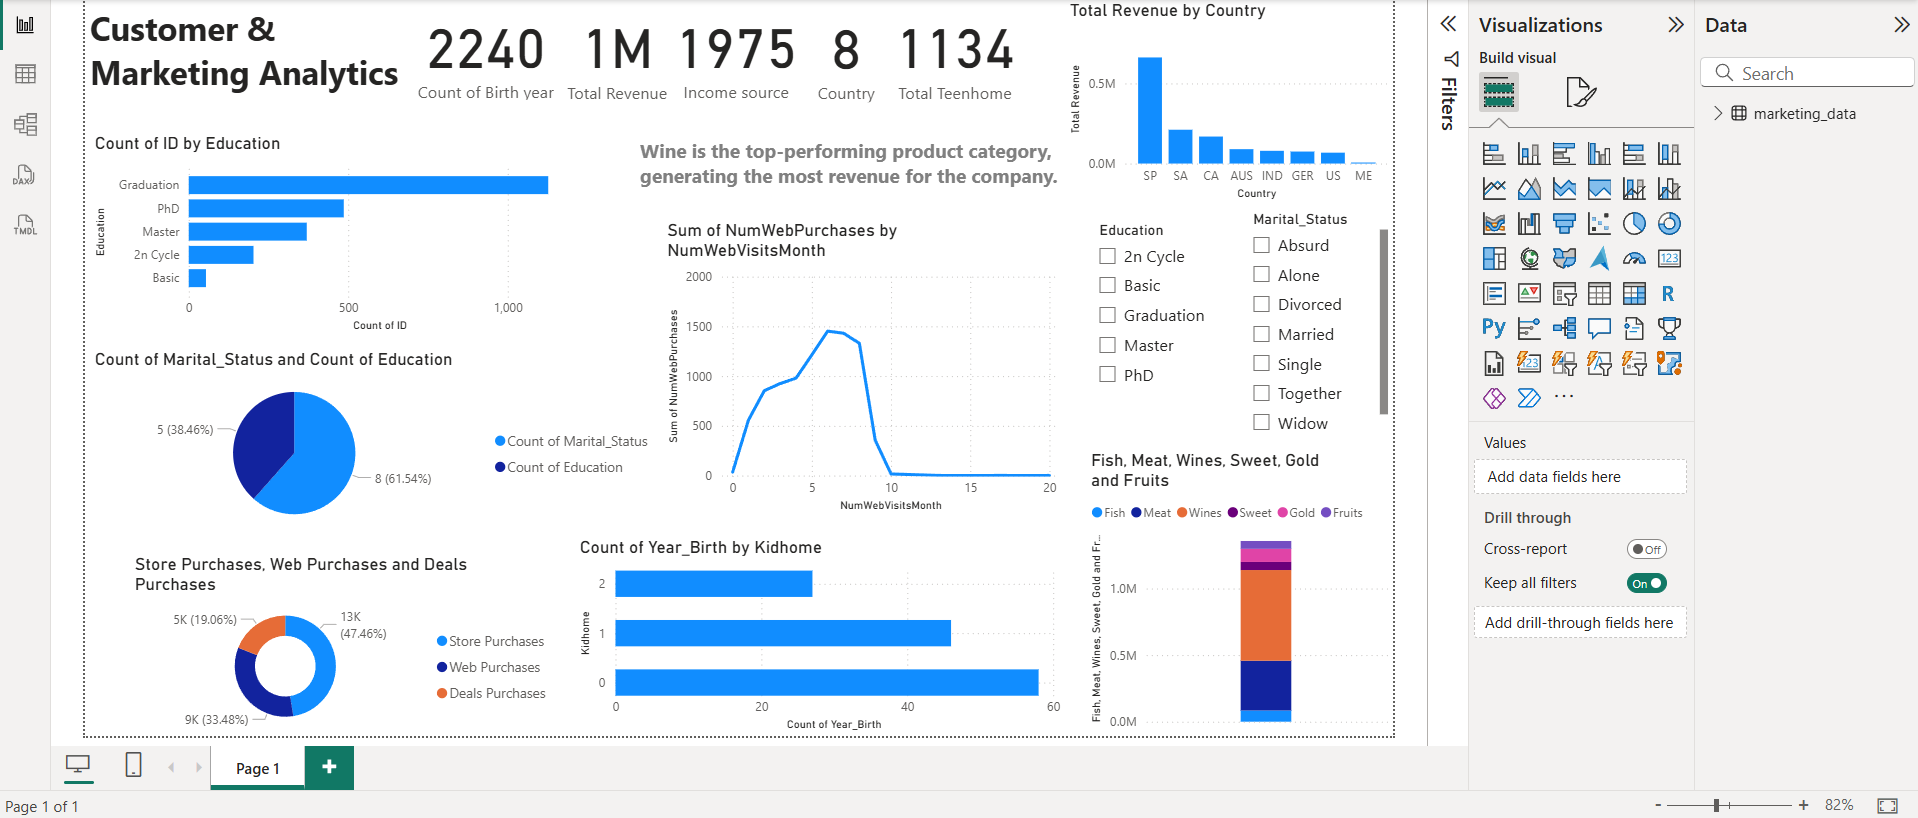

This screenshot's page, from the dashboard's own definition file:
{"tool":"powerbi","page":{"name":"Page 1","canvas":[1280,720],"ordinal":0},"visuals":[{"type":"columnChart","fields":{"Category":["marketing_data.Country"],"Y":["marketing_data.Total Revenue"]},"box":[958.8,0,321.2,200],"z":0},{"type":"card","fields":{"Values":["marketing_data.Total Revenue"]},"box":[466.2,0,110,103.8],"z":1},{"type":"card","fields":{"Values":["Count(marketing_data.Income)"]},"box":[571.2,0,132.5,102.5],"z":2},{"type":"card","fields":{"Values":["Count(marketing_data.Country)"]},"box":[703.8,0,81.2,105],"z":3},{"type":"card","fields":{"Values":["CountNonNull(marketing_data.Year_Birth)"]},"box":[320,0,143.8,102.5],"z":4},{"type":"barChart","fields":{"Category":["marketing_data.Kidhome"],"Y":["Count(marketing_data.Year_Birth)"]},"box":[478.8,525,480,195],"z":6},{"type":"donutChart","fields":{"Y":["Sum(marketing_data.NumStorePurchases)","Sum(marketing_data.NumWebPurchases)","Sum(marketing_data.NumDealsPurchases)"]},"box":[43.8,541.2,421.2,178.8],"z":8},{"type":"card","fields":{"Values":["Sum(marketing_data.Teenhome)"]},"box":[785,0,132.5,103.8],"z":9},{"type":"pieChart","fields":{"Y":["Count(marketing_data.Marital_Status)","Count(marketing_data.Education)"]},"box":[5,341.2,560,183.8],"z":10},{"type":"barChart","fields":{"Category":["marketing_data.Education"],"Y":["Count(marketing_data.ID)"]},"box":[5,130,491.2,200],"z":11},{"type":"textbox","box":[537.5,130,433.8,66.2],"z":13},{"type":"textbox","box":[0,1.2,320,105],"z":14},{"type":"columnChart","fields":{"Y":["Sum(marketing_data.MntFishProducts)","Sum(marketing_data.MntMeatProducts)","Sum(marketing_data.MntWines)","Sum(marketing_data.MntSweetProducts)","Sum(marketing_data.MntGoldProds)","Sum(marketing_data.MntFruits)"]},"box":[980,440,300,280],"z":15},{"type":"slicer","fields":{"Values":["marketing_data.Education"]},"box":[980,211.2,127.5,173.8],"z":16},{"type":"slicer","fields":{"Values":["marketing_data.Marital_Status"]},"box":[1130,200,150,233.8],"z":17},{"type":"lineChart","fields":{"Category":["marketing_data.NumWebVisitsMonth"],"Y":["Sum(marketing_data.NumWebPurchases)"]},"box":[565,215,393.8,290],"z":18}]}

Visuals, with their boxes on the page's 1280x720 design canvas (x1, y1, x2, y2). These are canvas units, not pixel positions in the 1918x818 screenshot, which may show the page scaled, cropped or inside an application window:
columnChart - marketing_data.Country x marketing_data.Total Revenue: (x1=959, y1=0, x2=1280, y2=200)
card - marketing_data.Total Revenue: (x1=466, y1=0, x2=576, y2=104)
card - Count(marketing_data.Income): (x1=571, y1=0, x2=704, y2=102)
card - Count(marketing_data.Country): (x1=704, y1=0, x2=785, y2=105)
card - CountNonNull(marketing_data.Year_Birth): (x1=320, y1=0, x2=464, y2=102)
barChart - marketing_data.Kidhome x Count(marketing_data.Year_Birth): (x1=479, y1=525, x2=959, y2=720)
donutChart - Sum(marketing_data.NumStorePurchases) x Sum(marketing_data.NumWebPurchases): (x1=44, y1=541, x2=465, y2=720)
card - Sum(marketing_data.Teenhome): (x1=785, y1=0, x2=918, y2=104)
pieChart - Count(marketing_data.Marital_Status) x Count(marketing_data.Education): (x1=5, y1=341, x2=565, y2=525)
barChart - marketing_data.Education x Count(marketing_data.ID): (x1=5, y1=130, x2=496, y2=330)
textbox: (x1=538, y1=130, x2=971, y2=196)
textbox: (x1=0, y1=1, x2=320, y2=106)
columnChart - Sum(marketing_data.MntFishProducts) x Sum(marketing_data.MntMeatProducts): (x1=980, y1=440, x2=1280, y2=720)
slicer - marketing_data.Education: (x1=980, y1=211, x2=1108, y2=385)
slicer - marketing_data.Marital_Status: (x1=1130, y1=200, x2=1280, y2=434)
lineChart - marketing_data.NumWebVisitsMonth x Sum(marketing_data.NumWebPurchases): (x1=565, y1=215, x2=959, y2=505)
